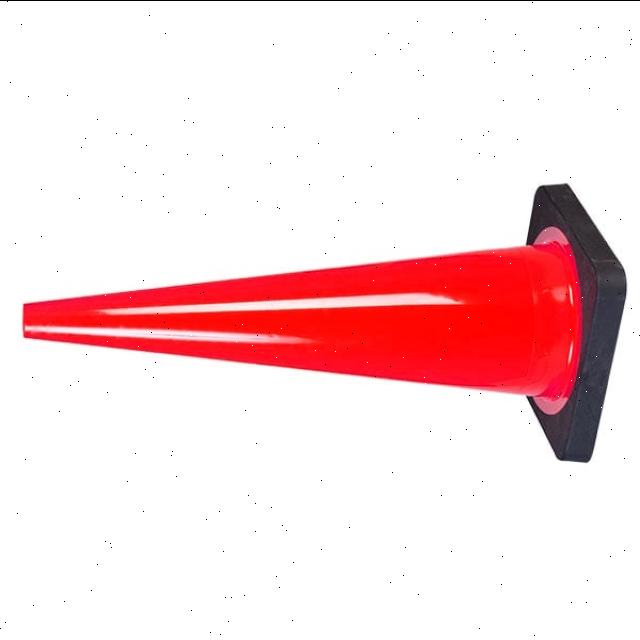traffic cone: (17, 172, 629, 476)
